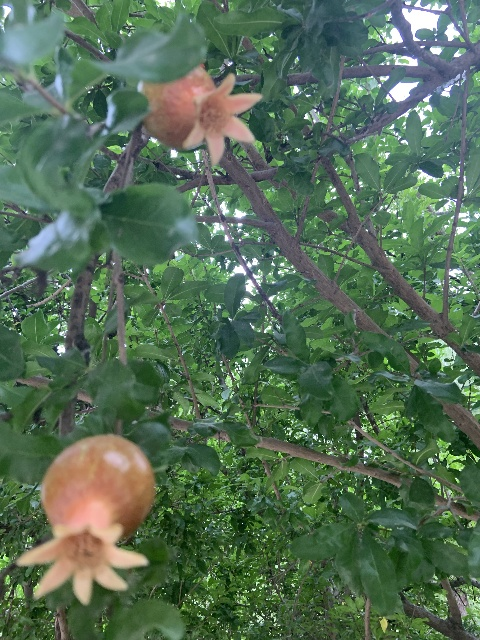early-fruit: (16, 433, 156, 606), (141, 62, 261, 165)
